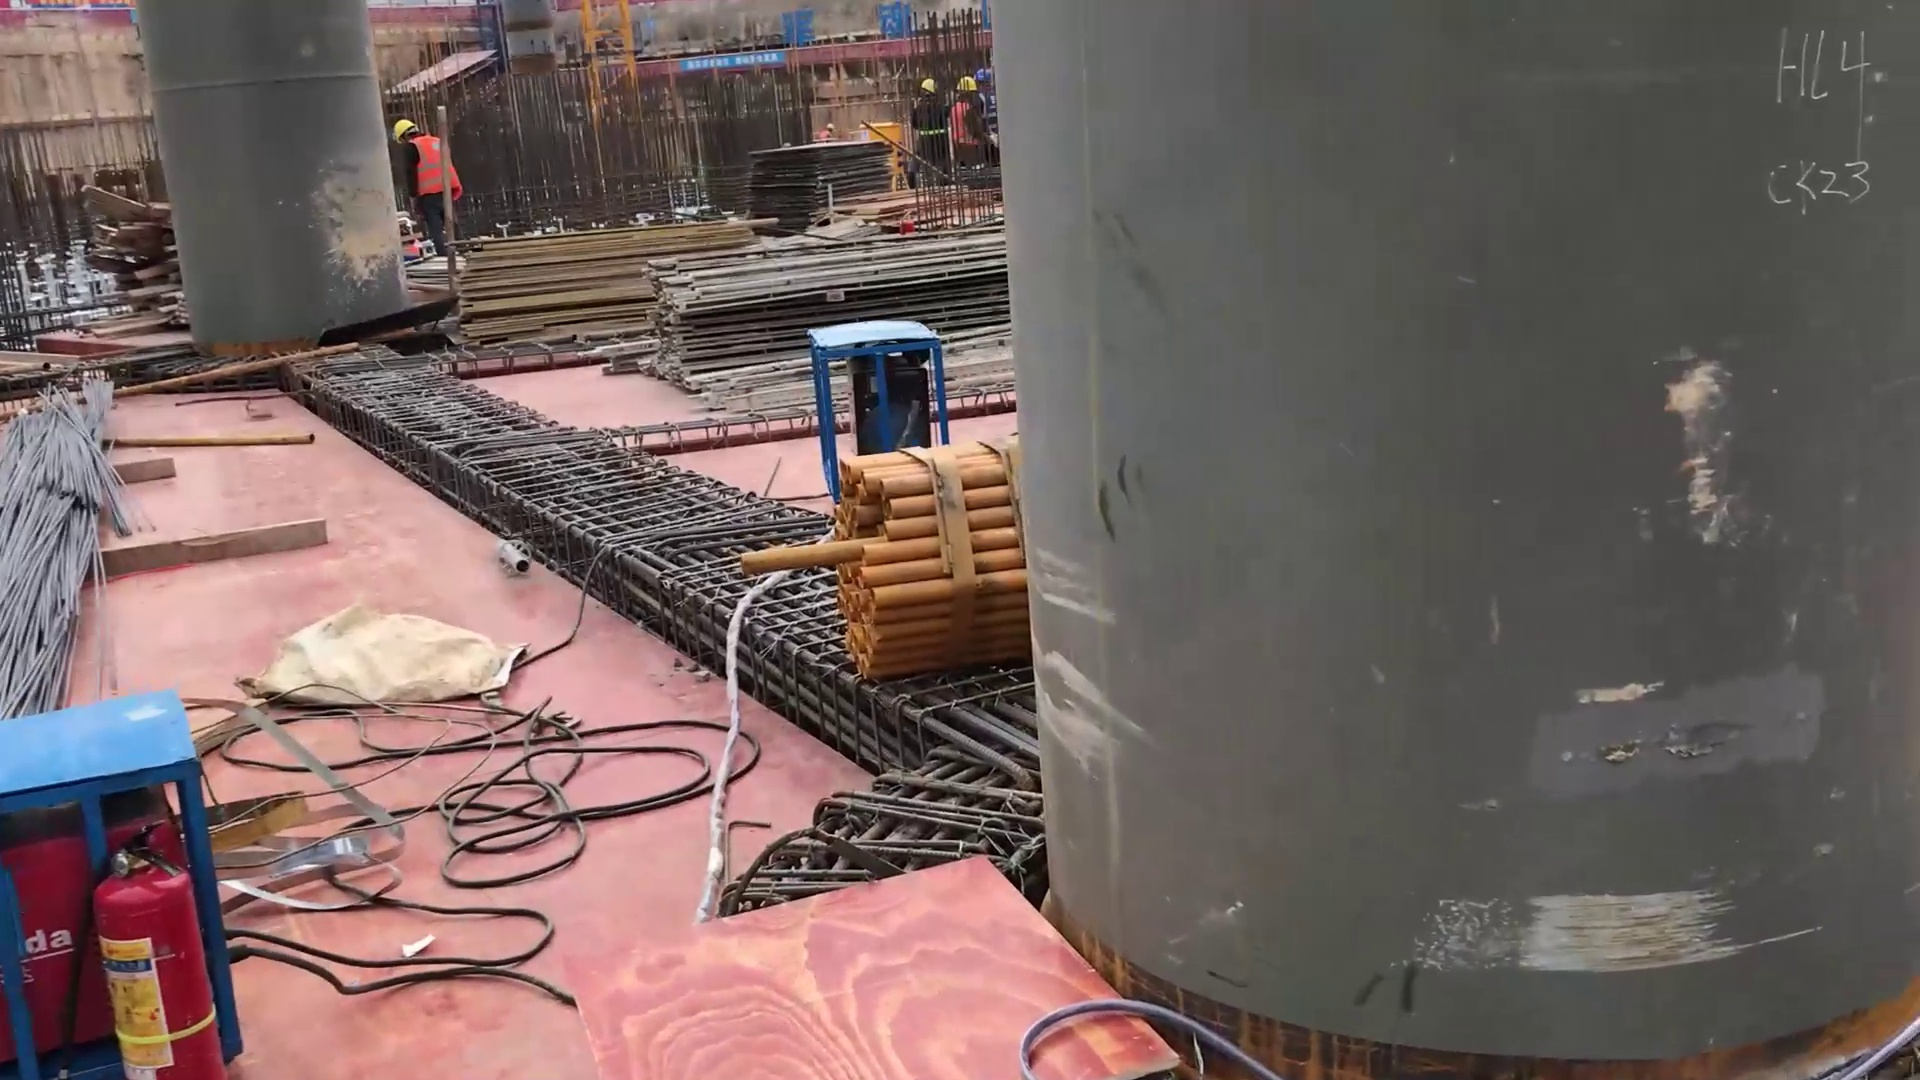helmet: (391, 108, 424, 128), (976, 66, 1004, 84), (954, 76, 976, 95), (920, 76, 940, 92), (825, 122, 835, 129)
person: (387, 113, 471, 253), (944, 76, 992, 176), (978, 58, 1024, 158), (911, 74, 944, 174), (816, 117, 839, 145)
vest: (415, 134, 464, 205), (954, 102, 981, 145), (908, 104, 941, 139), (985, 95, 1009, 135), (820, 131, 831, 140)
